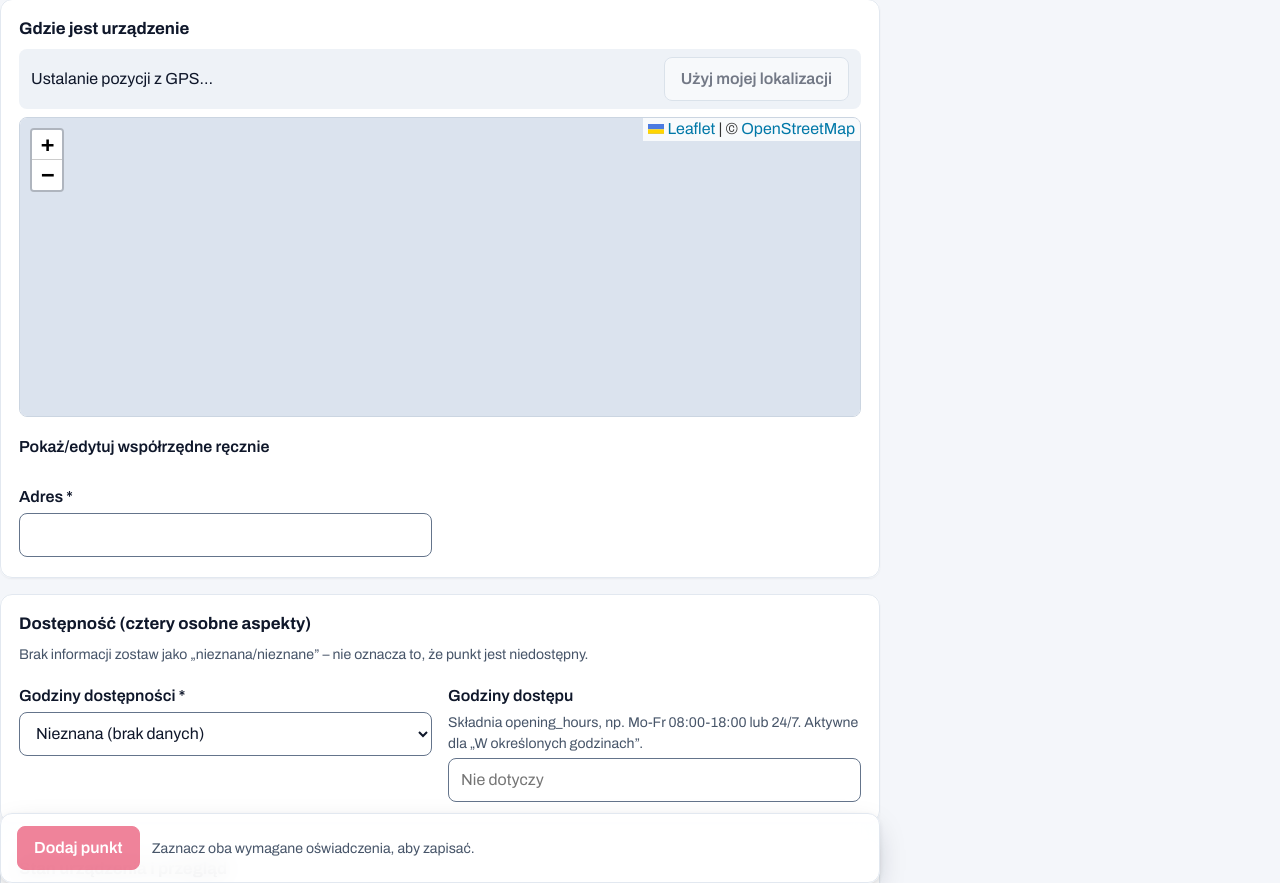
Scenario: AedForm (generowany ze schematu) › buduje pola ze schematu, ukrywa pola systemowe, aktywuje godziny dla w_godzinach, blokuje zapis bez oświadczeń
The image size is (1280, 883).
Expected: the field labelled "Godziny dostępu" is disabled, [448,758,861,802]
Select "W określonych godzinach" in the dropdown labelled "Godziny dostępności *": (226, 734) [19,712,432,756]
(page scrolled)
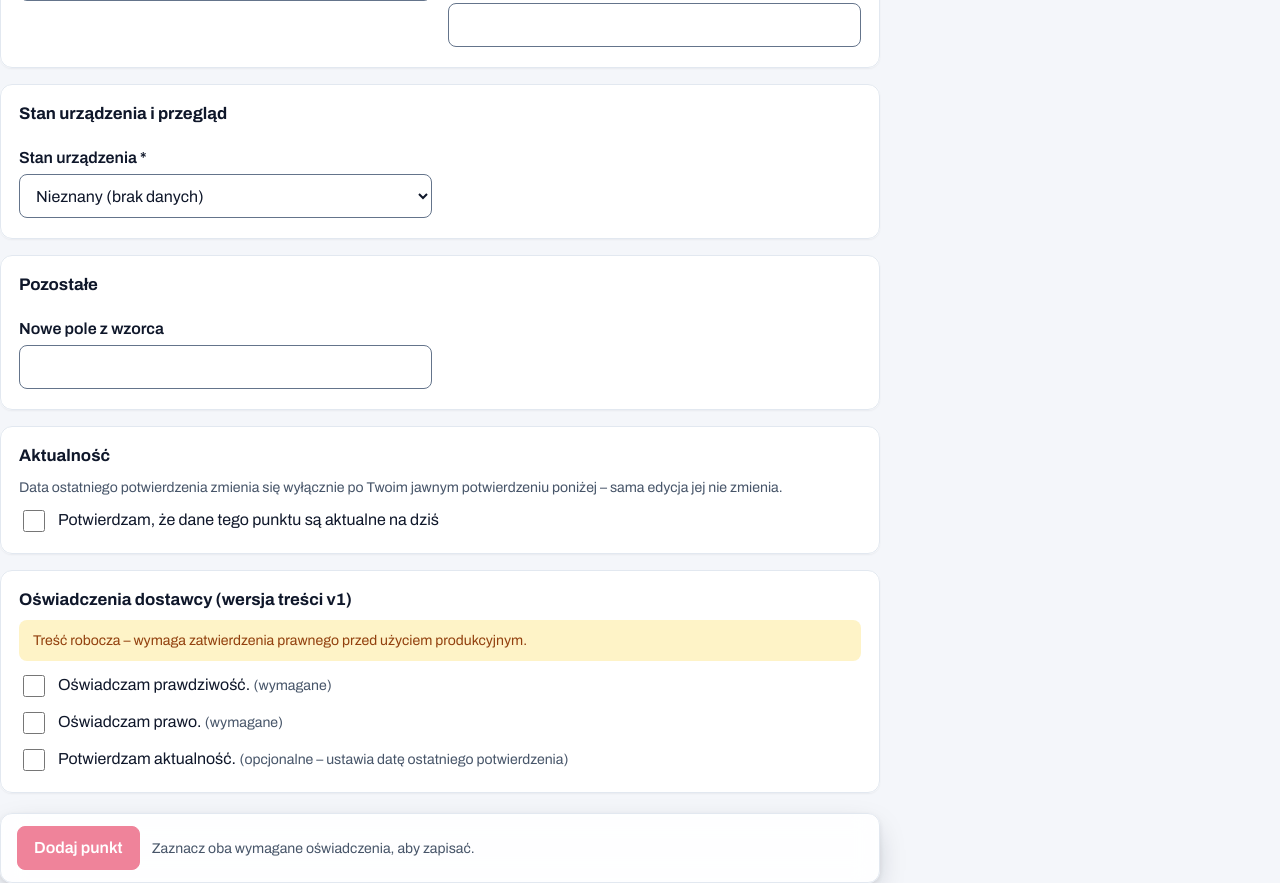
Expected: the field labelled "Godziny dostępu *" is enabled, [448,3,861,47]
Expected: the button "Dodaj punkt" is disabled, [17,826,140,870]
Click the checkbox labelled "Oświadczam prawdziwość. (wymagane)": click(34, 686) [23,675,45,697]
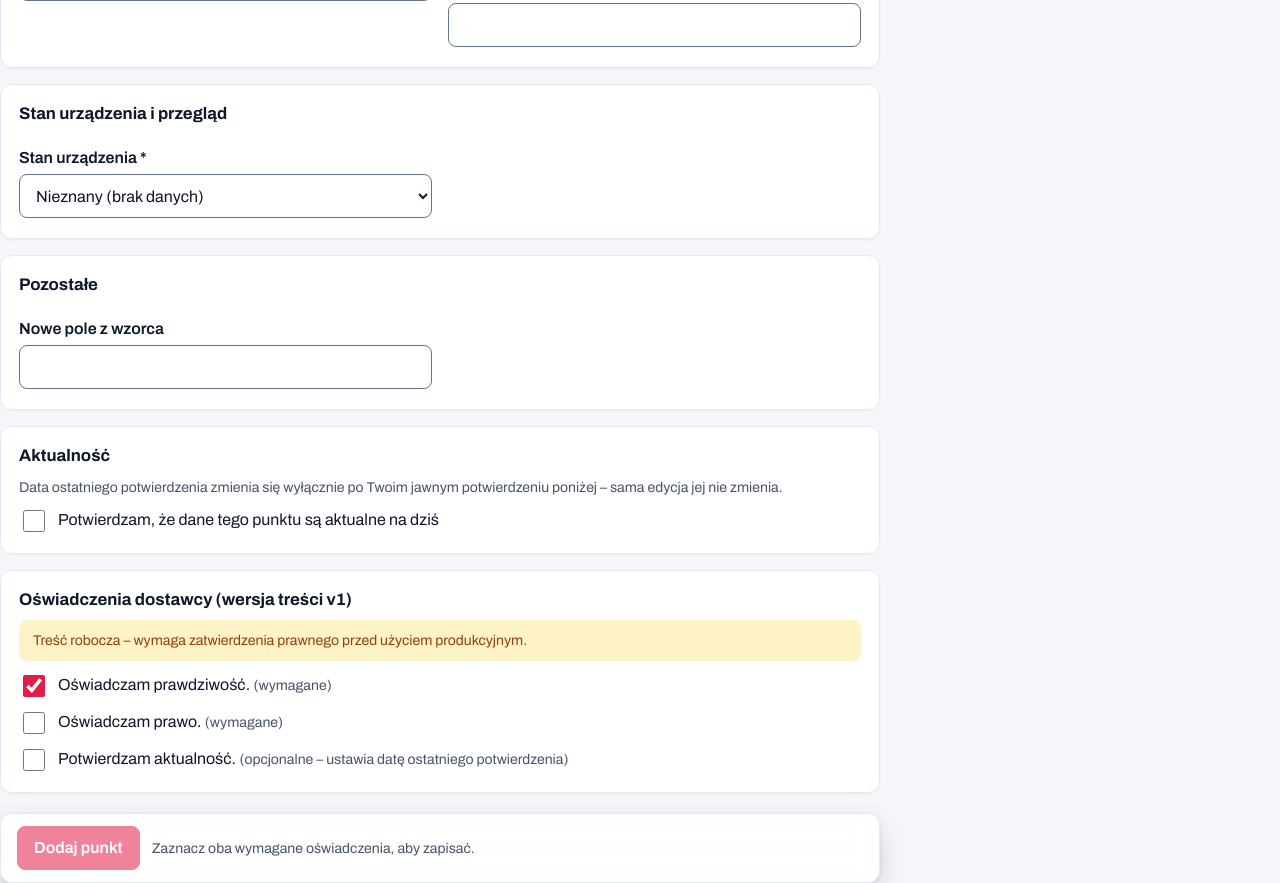
Expected: the button "Dodaj punkt" is disabled, [17,826,140,870]
Click the checkbox labelled "Oświadczam prawo. (wymagane)": click(34, 723) [23,712,45,734]
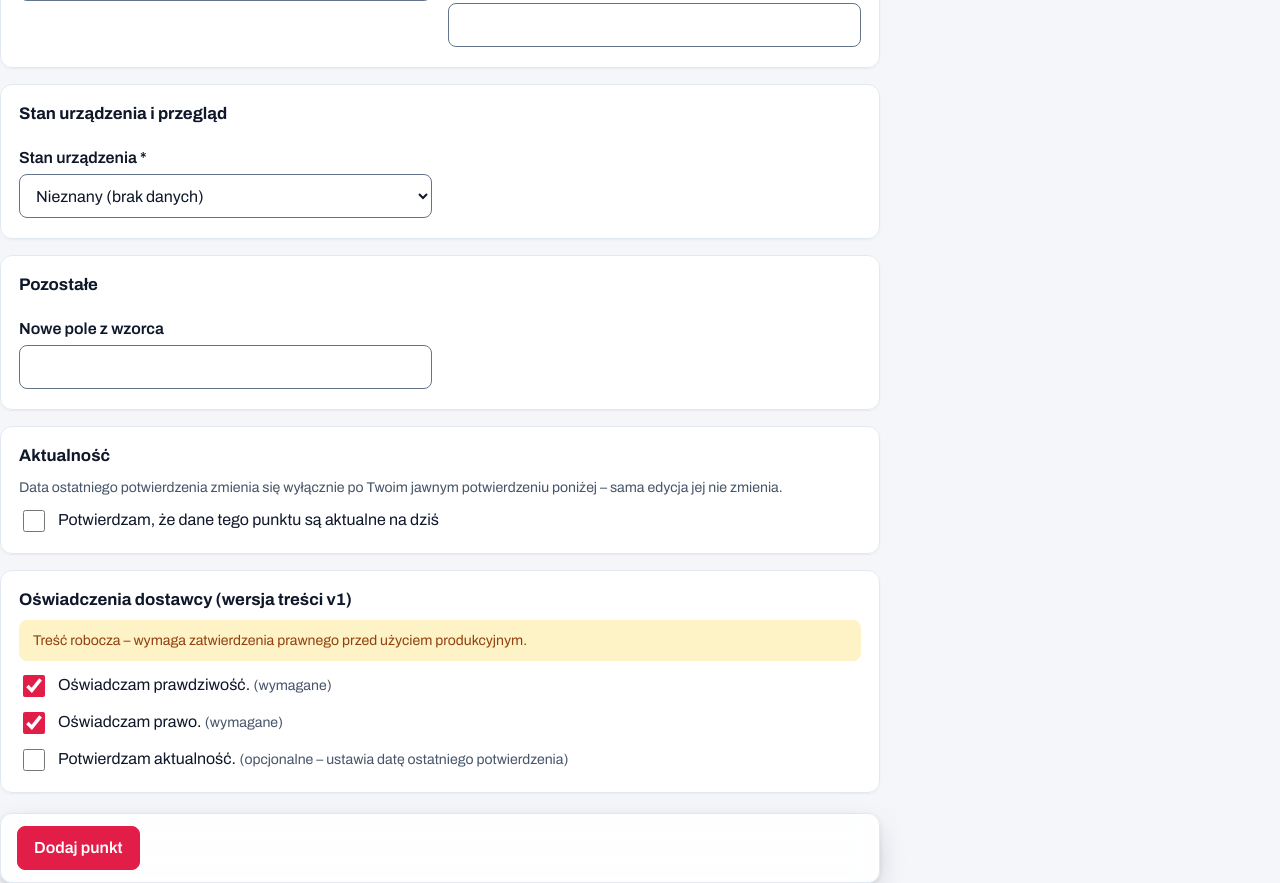
Now the button "Dodaj punkt" is enabled, box [17,826,140,870]
